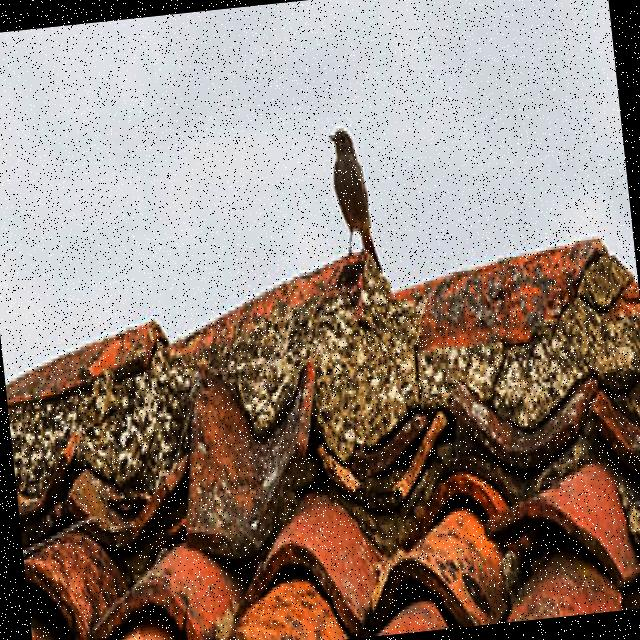bird: (324, 121, 384, 278)
